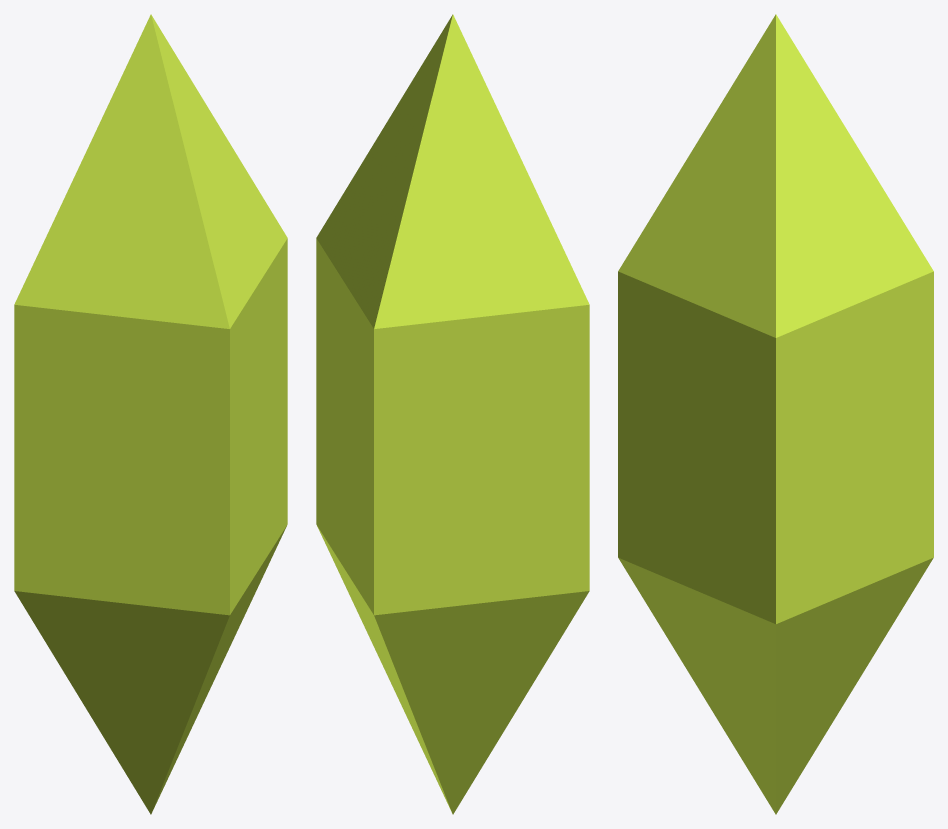
Rendered from Experience.fbx.
The picture shows the model from 3 angles, left to right: view 1: azimuth 30°, elevation 25°; view 2: azimuth 150°, elevation 25°; view 3: azimuth 270°, elevation 25°; orthographic projection.
Parts seen in each view (by area): view 1: Experience; view 2: Experience; view 3: Experience.
Part boxes in pixels (bbox=[...]): Experience: bbox=[14, 14, 287, 814]; Experience: bbox=[316, 14, 589, 814]; Experience: bbox=[618, 14, 933, 814].
Bounding box in the file's own units: 24.69 × 69.1 × 24.69.
